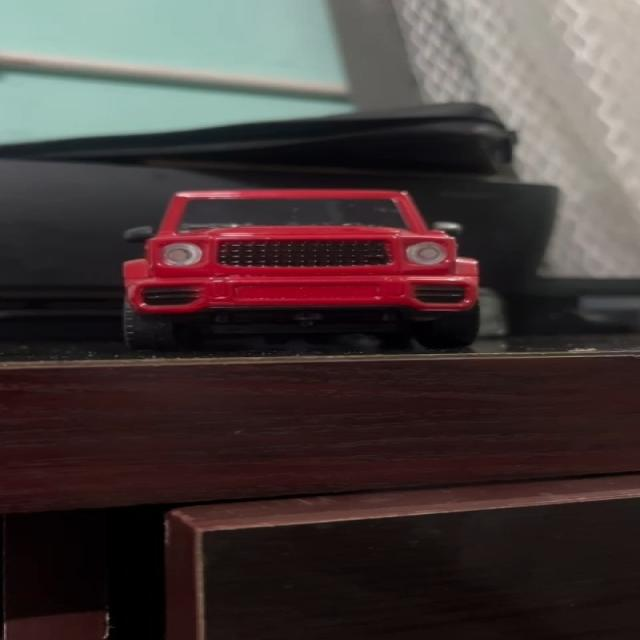light_vehicle: (117, 186, 493, 345)
